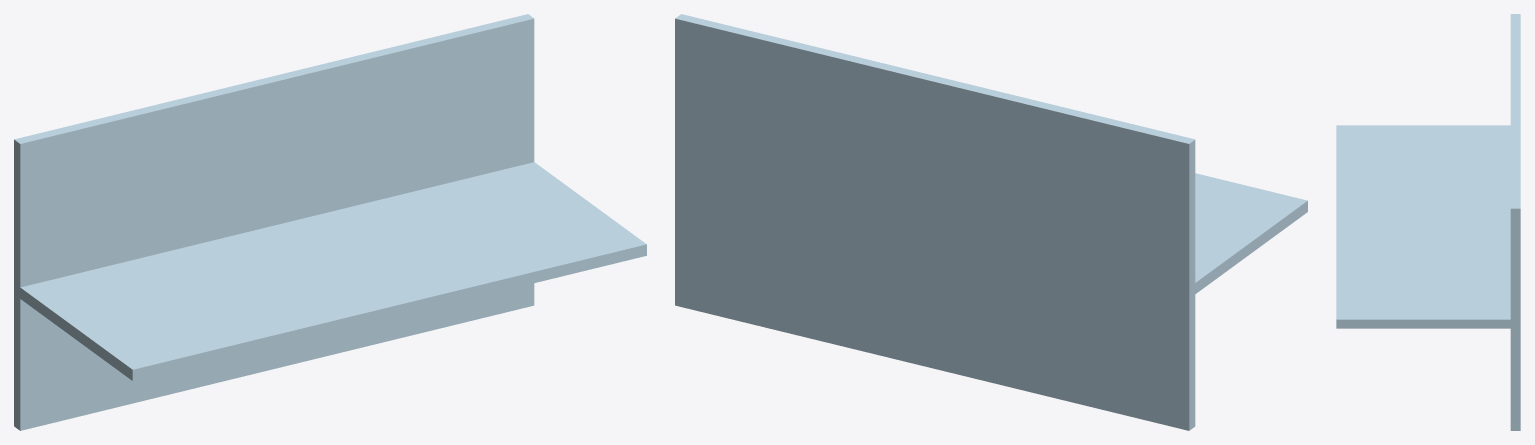
3 views of the same model, side by side, from view 1: azimuth 30°, elevation 25°; view 2: azimuth 150°, elevation 25°; view 3: azimuth 270°, elevation 25° (orthographic). The views are drawn at different scales.
Visible parts, largest first — view 1: Part 1; view 2: Part 1; view 3: Part 1.
Part boxes in pixels (x1,y1,x2,y2): Part 1: (14,14,646,430); Part 1: (675,14,1307,430); Part 1: (1336,14,1520,430).
Bounding box in the file's own units: 0.15 × 0.08 × 0.06.
